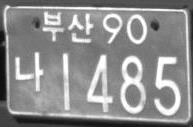0: (126, 13, 147, 45)
1: (51, 52, 80, 110)
4: (84, 53, 113, 112)
5: (153, 56, 181, 117)
8: (119, 54, 146, 115)
9: (101, 12, 123, 44)
나: (14, 51, 44, 92)
부산_O: (42, 10, 94, 43)
